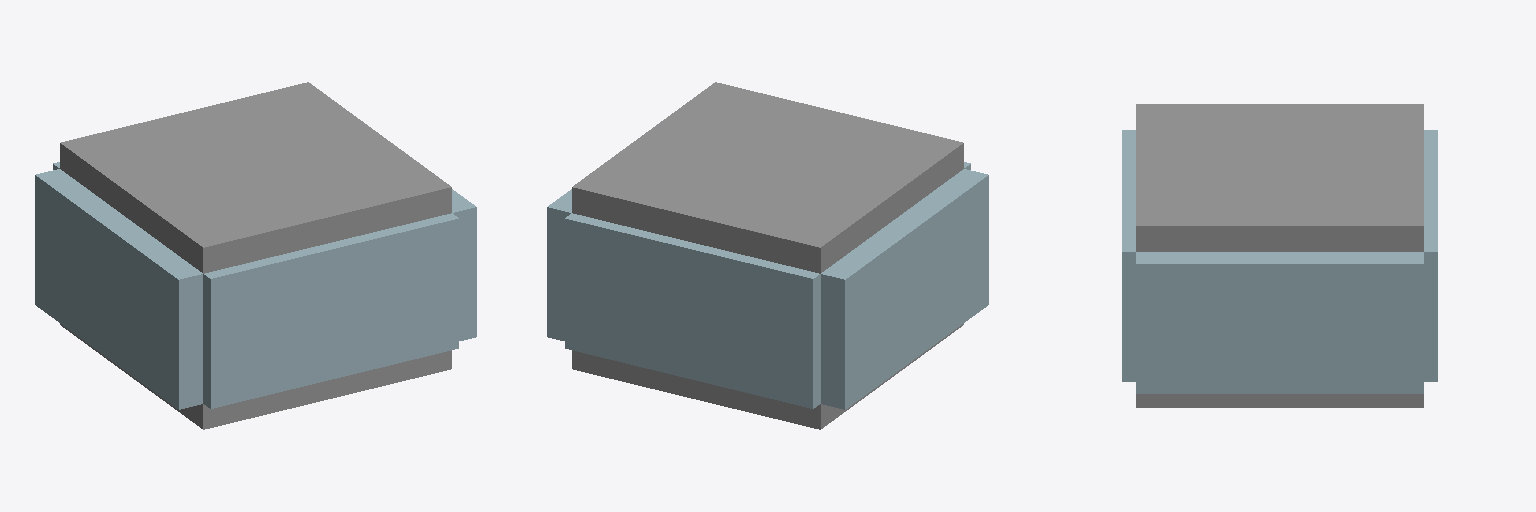
3 views of the same model, side by side, from view 1: azimuth 30°, elevation 25°; view 2: azimuth 150°, elevation 25°; view 3: azimuth 270°, elevation 25° (orthographic).
Parts seen in each view (by area): view 1: Cube.005_Cube.001, Cube.004_Cube.011, Cube.002_Cube.006, Cube, Cube.001_Cube.003; view 2: Cube.005_Cube.001, Cube.003_Cube.010, Cube.002_Cube.006, Cube, Cube.001_Cube.003; view 3: Cube.005_Cube.001, Cube.001_Cube.003, Cube, Cube.004_Cube.011, Cube.003_Cube.010.
Boxes of the visible parts, <box> form: Cube.005_Cube.001: <box>60,82,451,273</box>; Cube.004_Cube.011: <box>203,213,458,408</box>; Cube.002_Cube.006: <box>35,169,202,409</box>; Cube: <box>60,324,451,429</box>; Cube.001_Cube.003: <box>452,189,476,340</box>; Cube.005_Cube.001: <box>572,82,963,273</box>; Cube.003_Cube.010: <box>565,213,820,408</box>; Cube.002_Cube.006: <box>821,169,988,409</box>; Cube: <box>572,324,963,429</box>; Cube.001_Cube.003: <box>547,189,571,340</box>; Cube.005_Cube.001: <box>1136,104,1423,251</box>; Cube.001_Cube.003: <box>1136,252,1423,393</box>; Cube: <box>1136,394,1423,407</box>; Cube.004_Cube.011: <box>1122,130,1135,381</box>; Cube.003_Cube.010: <box>1424,130,1437,381</box>.
Size of the model in its own units: 24 by 14 by 22.
6 materials, 1 textured.